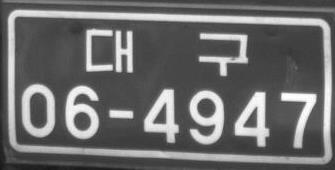0: (21, 83, 56, 137)
4: (143, 88, 178, 143), (234, 92, 269, 147)
6: (64, 83, 100, 139)
7: (279, 91, 318, 148)
9: (188, 89, 225, 145)
대구_D: (84, 27, 249, 77)
